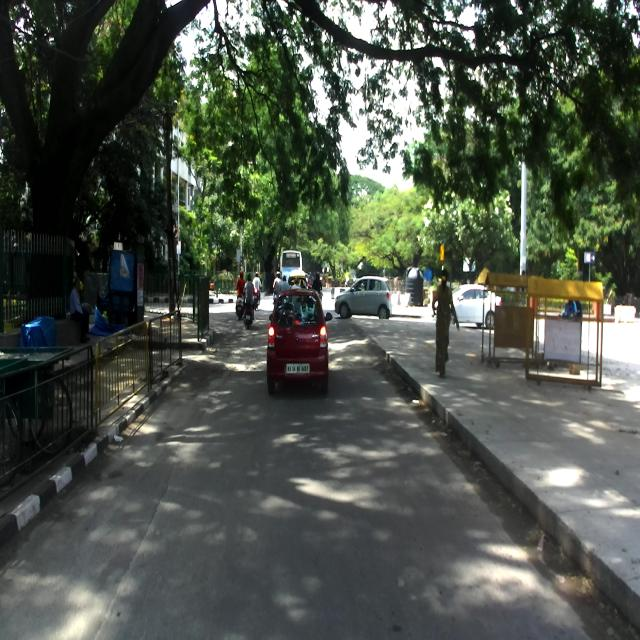barrier ahead at: (526, 277, 605, 390), (483, 273, 528, 369)
car ahead at: (267, 285, 330, 397)
